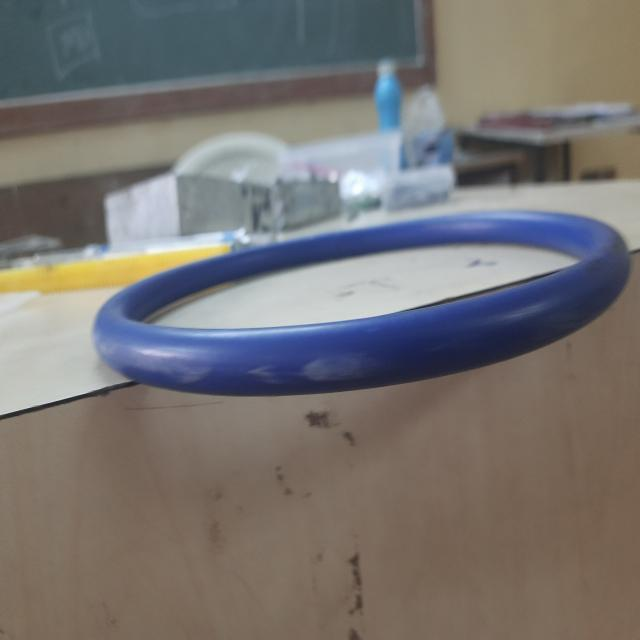daire: (94, 208, 629, 396)
